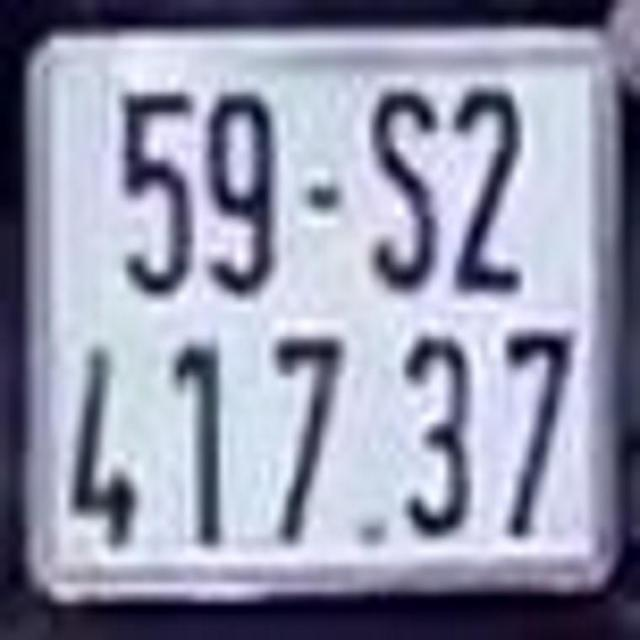1: (177, 340, 228, 538)
2: (453, 91, 525, 295)
3: (398, 329, 470, 535)
4: (72, 338, 138, 549)
5: (118, 92, 197, 298)
7: (507, 328, 584, 539), (270, 344, 352, 536)
9: (206, 93, 276, 298)
S: (362, 97, 437, 289)
